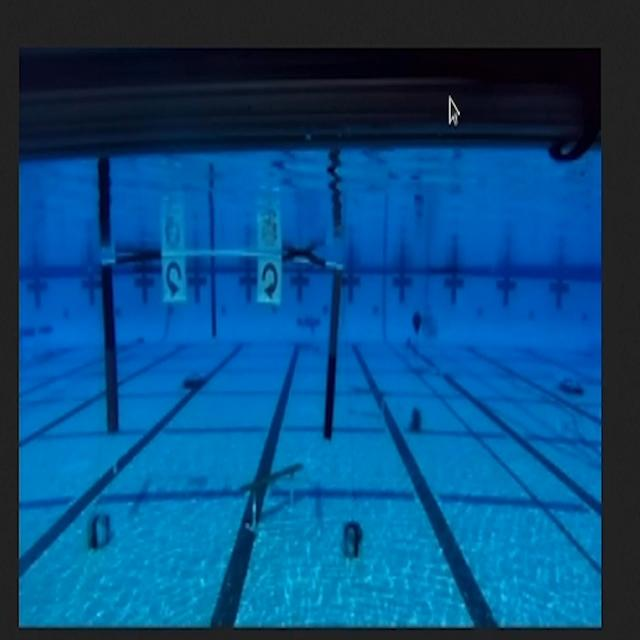Gate: (101, 252, 342, 441)
